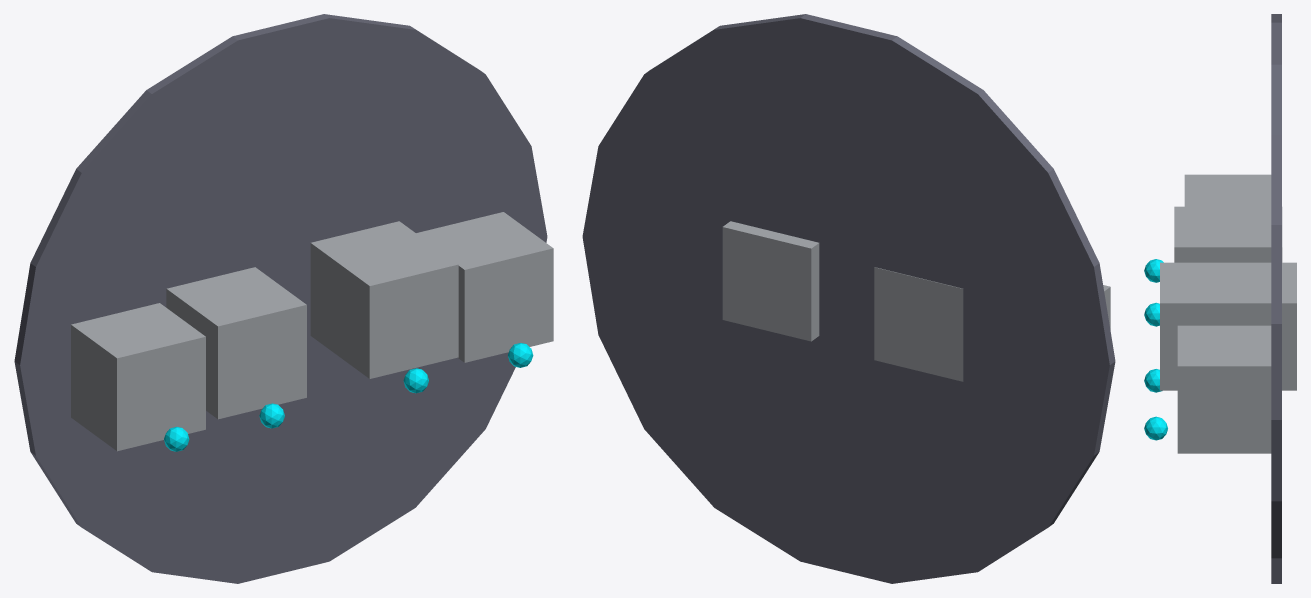
The model's file is 02_local_prop_cluster.glb.
The picture shows the model from 3 angles, left to right: view 1: azimuth 30°, elevation 25°; view 2: azimuth 150°, elevation 25°; view 3: azimuth 270°, elevation 25°; orthographic projection. The views are drawn at different scales.
Parts seen in each view (by area): view 1: scatter_base, tech_crate_2, tech_crate_0, tech_crate_1, tech_crate_3; view 2: scatter_base, tech_crate_2, tech_crate_1; view 3: tech_crate_3, tech_crate_2, scatter_base, tech_crate_1, tech_crate_0, status_light_3, status_light_0, status_light_2, status_light_1.
Boxes of the visible parts, x1=… form: scatter_base: x1=14, y1=14, x2=547, y2=583; tech_crate_2: x1=310, y1=221, x2=458, y2=378; tech_crate_0: x1=71, y1=303, x2=205, y2=451; tech_crate_1: x1=166, y1=267, x2=306, y2=419; tech_crate_3: x1=416, y1=212, x2=553, y2=362; scatter_base: x1=582, y1=14, x2=1115, y2=583; tech_crate_2: x1=722, y1=221, x2=819, y2=341; tech_crate_1: x1=874, y1=267, x2=963, y2=381; tech_crate_3: x1=1177, y1=325, x2=1271, y2=453; tech_crate_2: x1=1160, y1=262, x2=1296, y2=390; scatter_base: x1=1271, y1=14, x2=1281, y2=583; tech_crate_1: x1=1174, y1=206, x2=1282, y2=262; tech_crate_0: x1=1184, y1=174, x2=1271, y2=206; status_light_3: x1=1144, y1=416, x2=1167, y2=440; status_light_0: x1=1144, y1=259, x2=1163, y2=282; status_light_2: x1=1144, y1=369, x2=1162, y2=392; status_light_1: x1=1144, y1=302, x2=1159, y2=326.
Size of the model in its own units: 1.9 by 1.87 by 0.5072.
